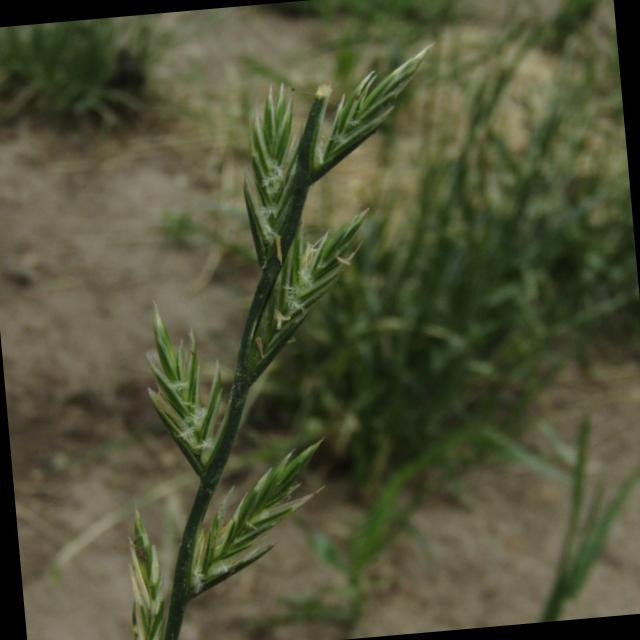Lolium: (76, 38, 488, 640)
